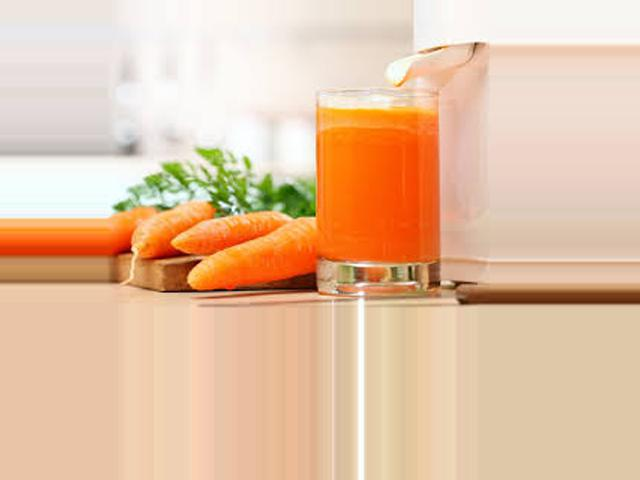carrot: (130, 206, 239, 249)
